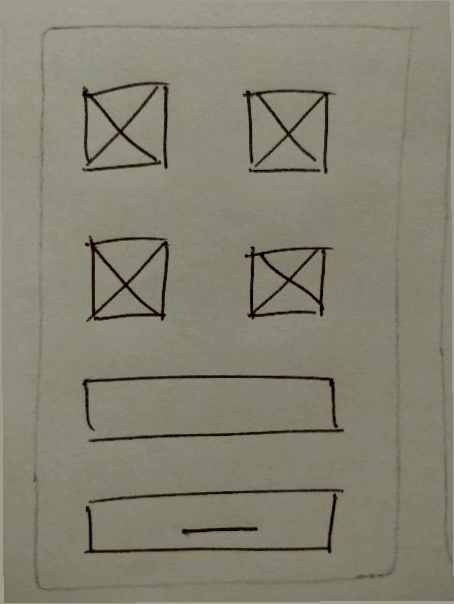button: (72, 485, 348, 563)
image: (73, 69, 178, 184), (231, 75, 338, 182), (76, 226, 178, 331), (237, 233, 337, 328)
text_input: (74, 368, 348, 447)
